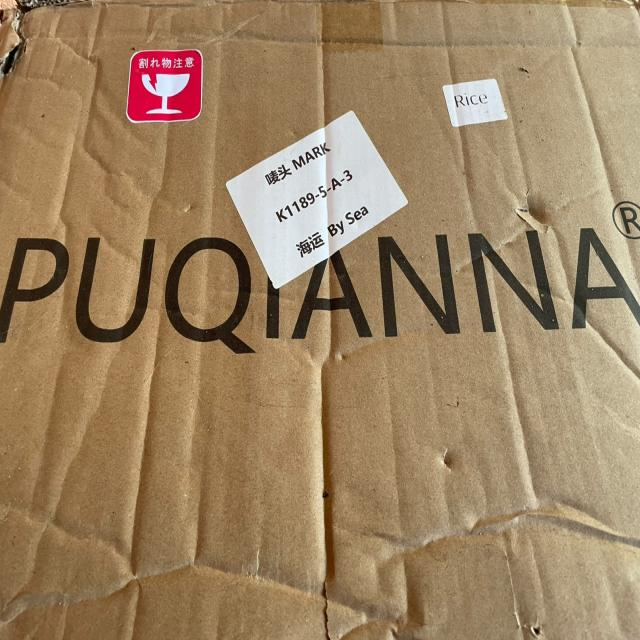carton_box: (0, 0, 640, 640)
export_mark_label: (224, 115, 402, 276)
fragile_label: (119, 35, 214, 136)
package_damage: (267, 520, 602, 640), (0, 0, 108, 111), (496, 175, 600, 262), (414, 411, 500, 515)
